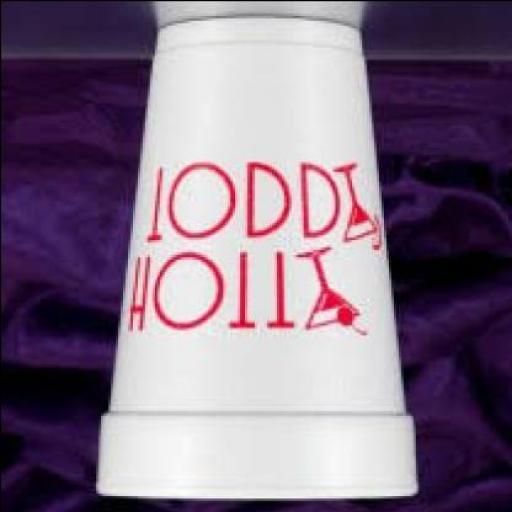paper: (92, 14, 415, 500)
